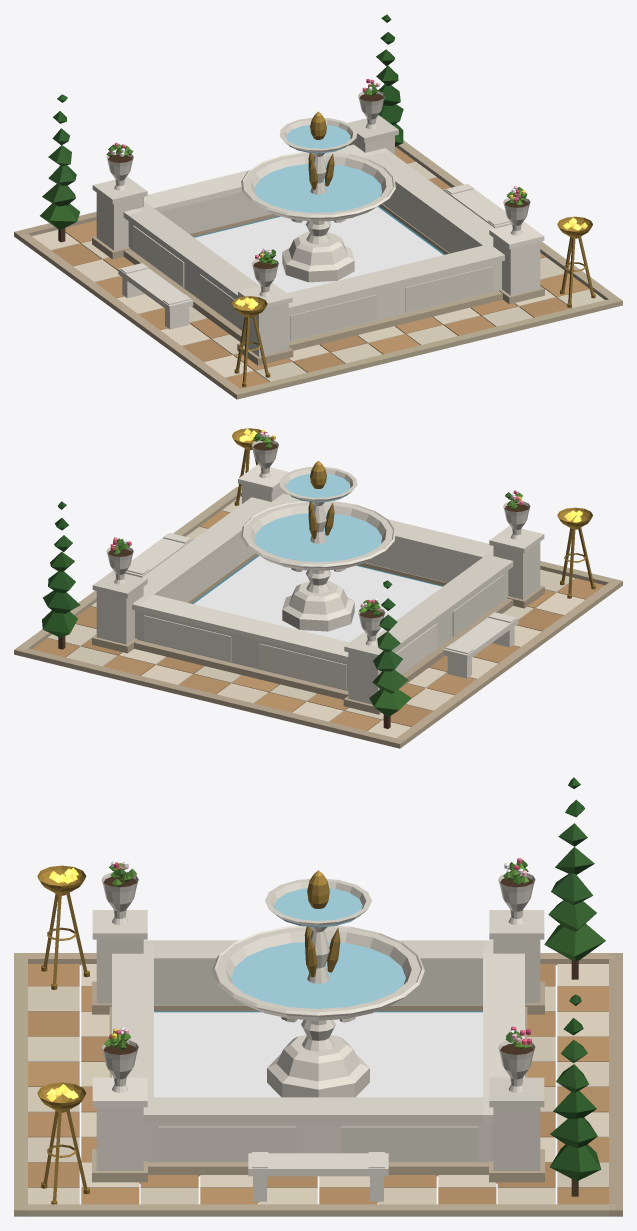
Rendered from mon_fountain.glb.
The picture shows the model from 3 angles, top to bottom: view 1: azimuth 30°, elevation 25°; view 2: azimuth 150°, elevation 25°; view 3: azimuth 270°, elevation 25°; orthographic projection. The views are drawn at different scales.
Parts seen in each view (by area): view 1: House; view 2: House; view 3: House, Embers.
Boxes of the visible parts, x1,y1,x2,y2 form: House: (14, 14, 622, 399); House: (14, 428, 622, 748); House: (14, 777, 622, 1216); Embers: (46, 867, 78, 1101).
Bounding box in the file's own units: 5.22 × 2.06 × 5.22.
5 materials, 5 textured.
